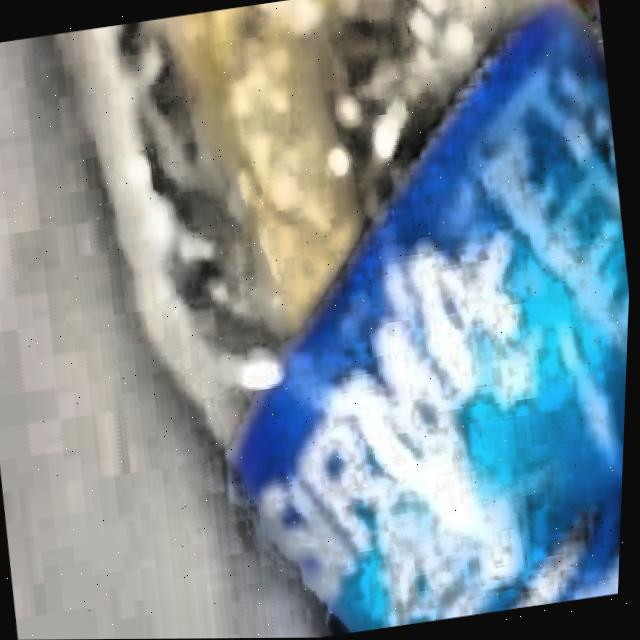plastic: (60, 0, 631, 633)
